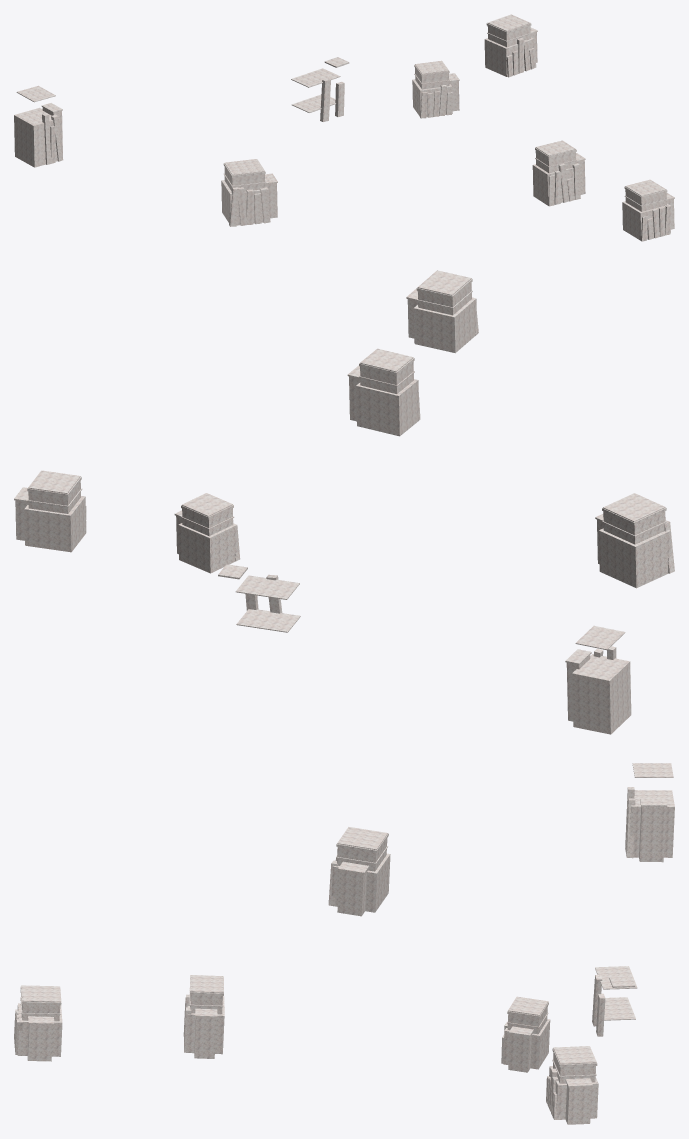
The model's file is HighwireHorizon_12.obj.
3 renders of one model, top to bottom at view 1: azimuth 30°, elevation 25°; view 2: azimuth 150°, elevation 25°; view 3: azimuth 270°, elevation 25°, orthographic. The views are drawn at different scales.
Visible parts, largest first — view 1: Box00125, Box00126, Box00127, Box00128, Box00129, Box00220, Box00219, Box00218, Box00217, Box00130, Box00721, Box00419 (+7 smaller); view 2: Box00125, Box00129, Box00128, Box00126, Box00127, Box00130, Box00220, Box00219, Box00721, Box00521, Box00419, Box00217 (+6 smaller); view 3: Box00125, Box01414, Box00129, Box01418, Box01415, Box01416, Box01417, Box00130, Box01419, Box00419, Box00220, Box00127 (+10 smaller).
Part boxes in pixels (left/top/right/bottom): Box00125: left=14, top=107, right=59, bottom=167; Box00126: left=484, top=37, right=534, bottom=76; Box00127: left=622, top=201, right=670, bottom=239; Box00128: left=532, top=164, right=574, bottom=205; Box00129: left=221, top=180, right=269, bottom=225; Box00220: left=224, top=167, right=265, bottom=191; Box00219: left=535, top=150, right=576, bottom=173; Box00218: left=625, top=189, right=666, bottom=211; Box00217: left=487, top=26, right=530, bottom=47; Box00130: left=412, top=79, right=452, bottom=117; Box00721: left=291, top=68, right=340, bottom=87; Box00419: left=224, top=159, right=264, bottom=175; Box00125: left=572, top=654, right=631, bottom=734; Box00129: left=598, top=528, right=671, bottom=588; Box00128: left=356, top=379, right=419, bottom=436; Box00126: left=24, top=496, right=86, bottom=552; Box00127: left=413, top=297, right=476, bottom=353; Box00130: left=178, top=523, right=237, bottom=573; Box00220: left=603, top=511, right=665, bottom=544; Box00219: left=360, top=361, right=413, bottom=393; Box00721: left=235, top=575, right=299, bottom=599; Box00521: left=236, top=609, right=300, bottom=632; Box00419: left=603, top=493, right=665, bottom=521; Box00217: left=28, top=481, right=80, bottom=513; Box00125: left=630, top=790, right=674, bottom=857; Box01414: left=639, top=806, right=665, bottom=862; Box00129: left=331, top=853, right=390, bottom=912; Box01418: left=337, top=869, right=367, bottom=916; Box01415: left=565, top=1084, right=591, bottom=1124; Box01416: left=27, top=1024, right=53, bottom=1061; Box01417: left=194, top=1017, right=216, bottom=1058; Box00130: left=503, top=1019, right=550, bottom=1069; Box01419: left=508, top=1033, right=532, bottom=1072; Box00419: left=337, top=827, right=387, bottom=849; Box00220: left=337, top=838, right=387, bottom=871; Box00127: left=17, top=1003, right=62, bottom=1056.
Bounding box in the file's own units: 538 × 80.97 × 514.
4 materials, 4 textured.
